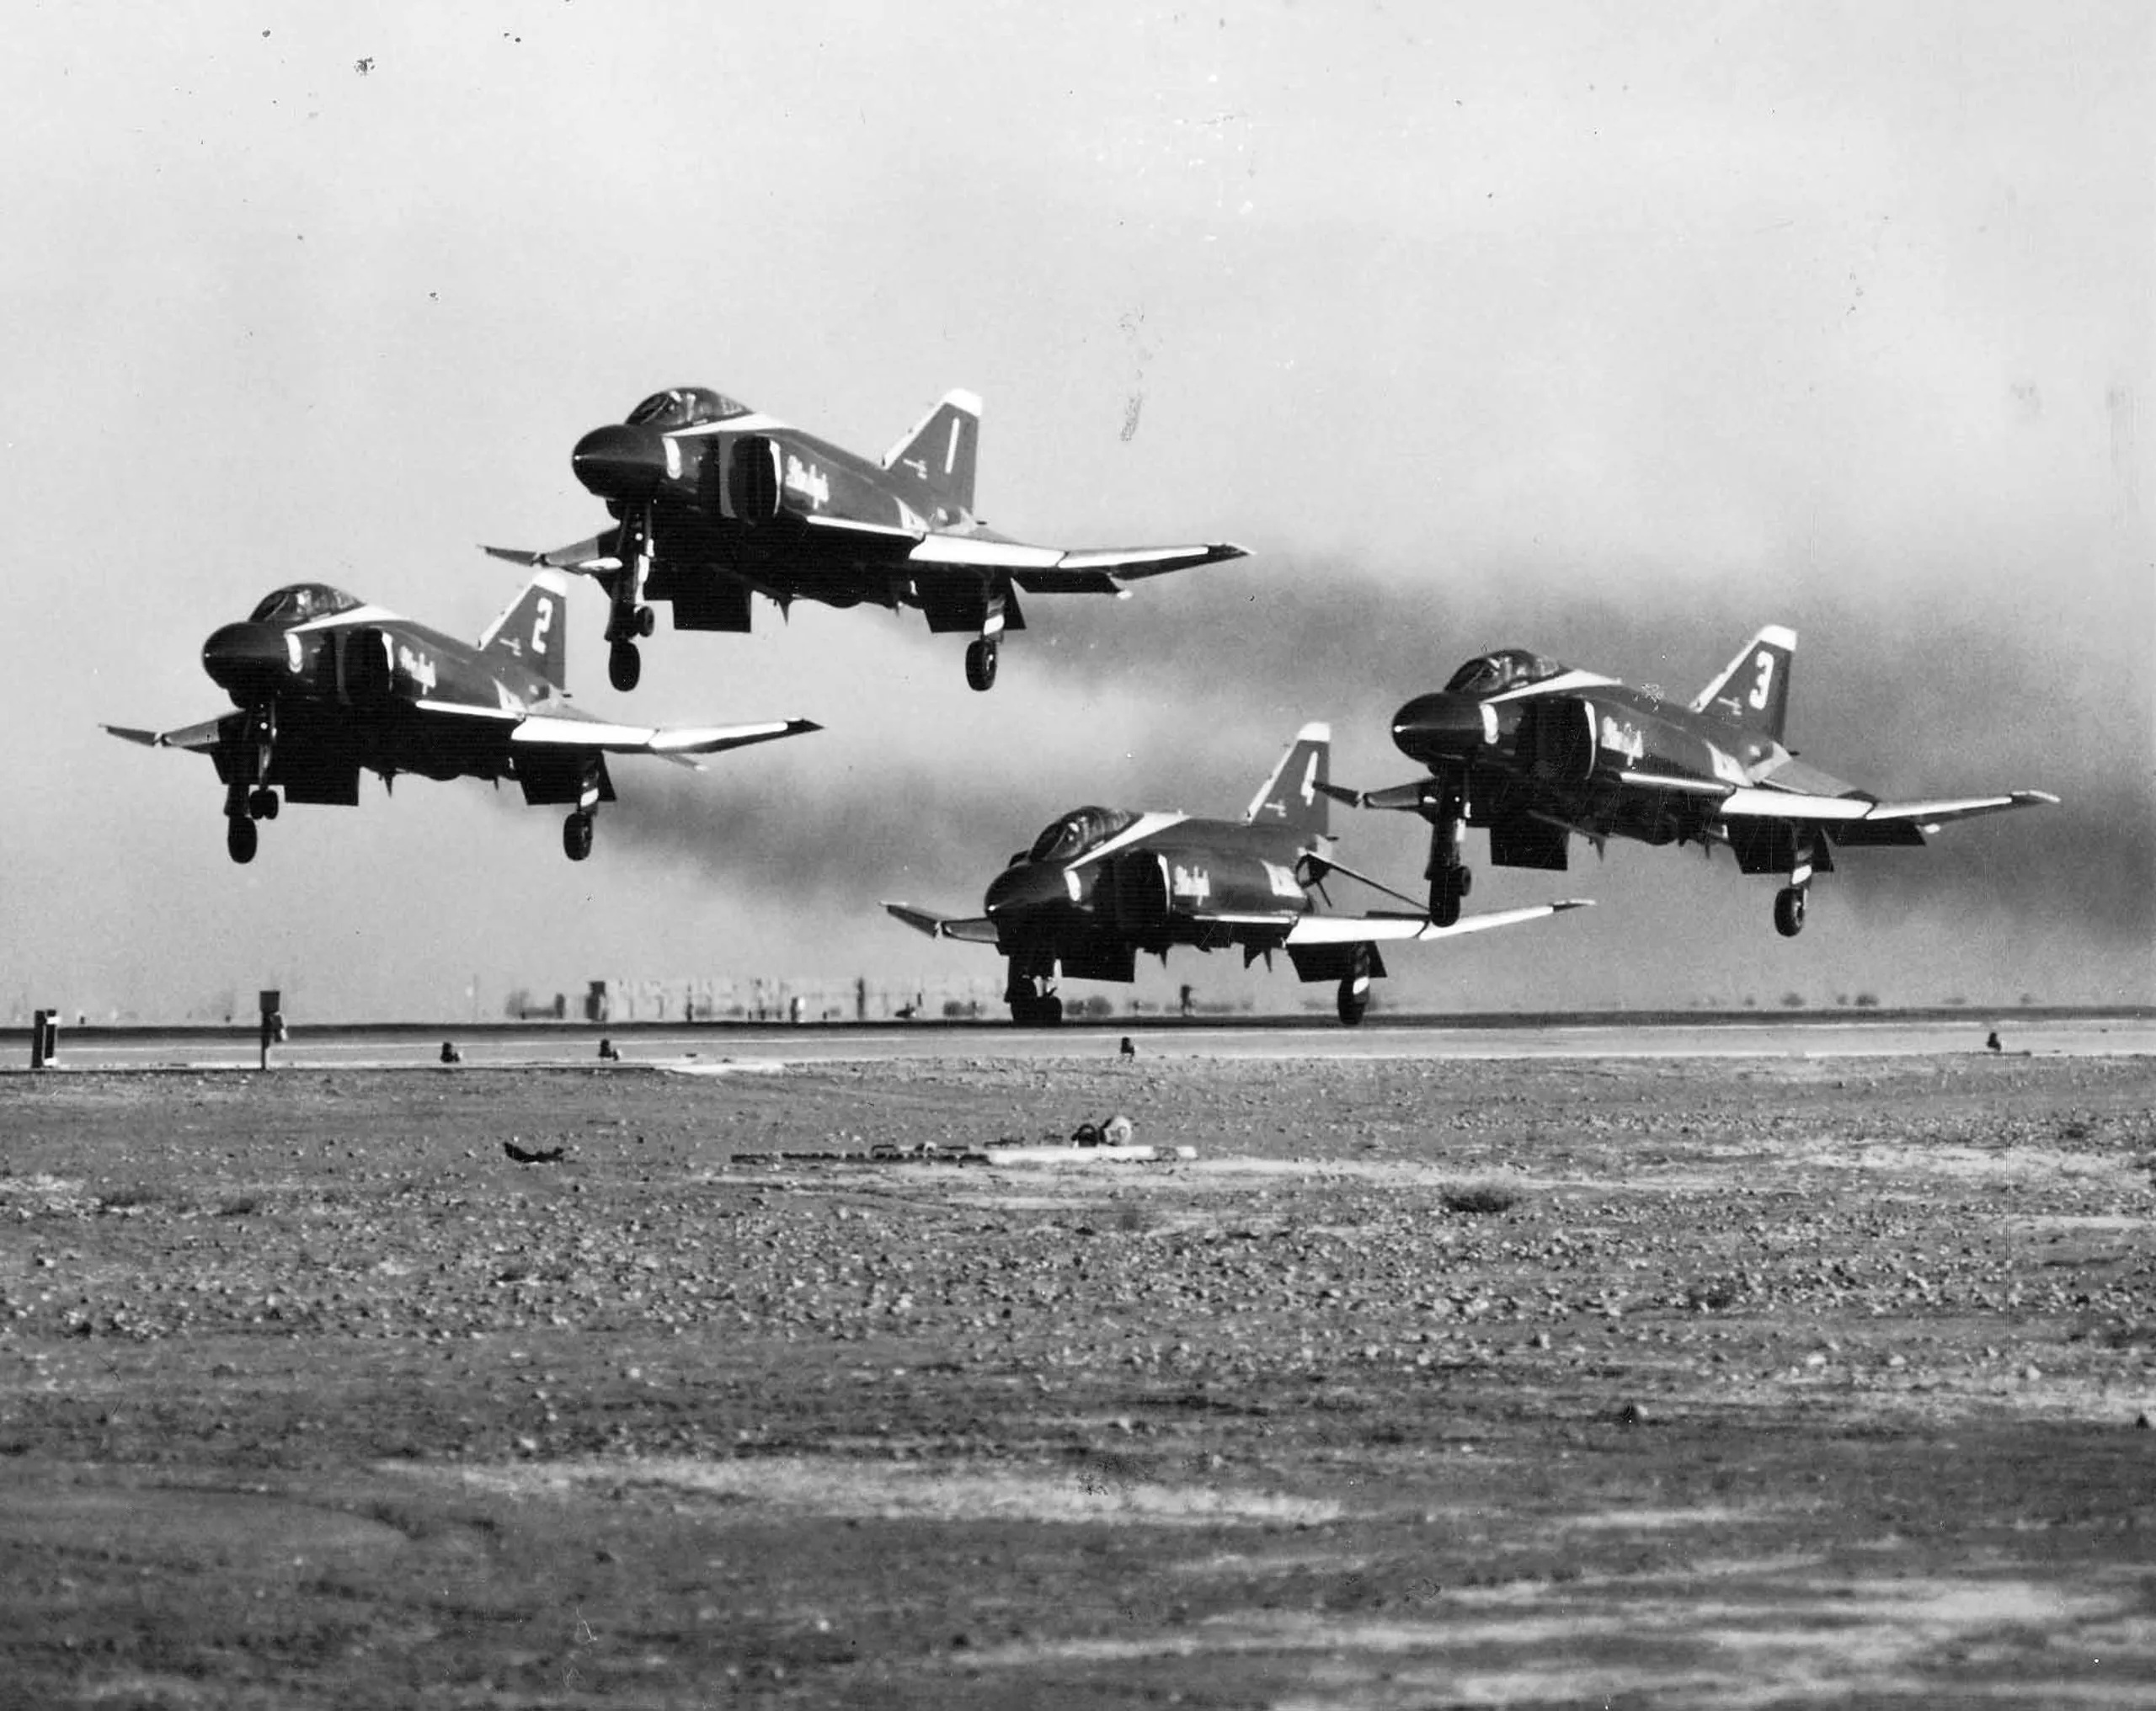F4: (474, 383, 1258, 693), (1311, 621, 2063, 927), (877, 721, 1592, 1027), (94, 567, 826, 864)
